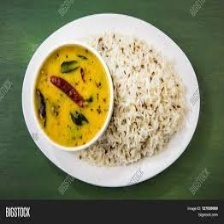rice: (92, 30, 191, 168)
